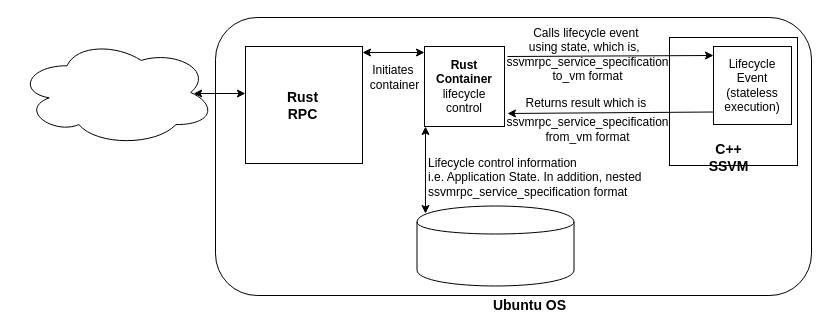
This 829x332 diagram has some shape labels left out. The shapes that lost their labels are listed below. From the top down, each one's centre as x and y in pixels, then its label:
(x=116, y=92): Curl, JS, XMLHttpRequest, jQuery, Python etc.
(x=495, y=245): Application state data storage Levedb
